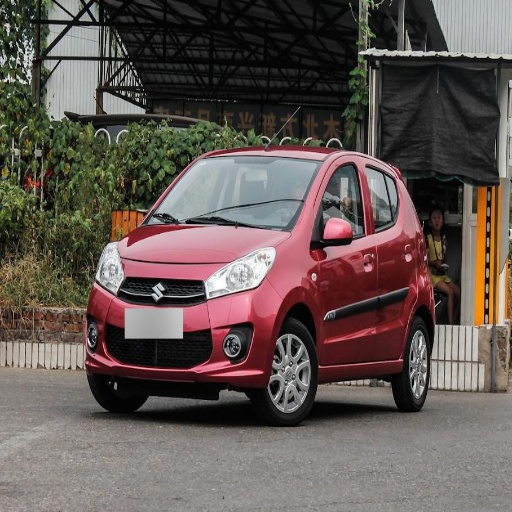front_bumper: (88, 257, 282, 387)
front_glass: (149, 158, 320, 230)
front_left_door: (313, 157, 377, 367)
